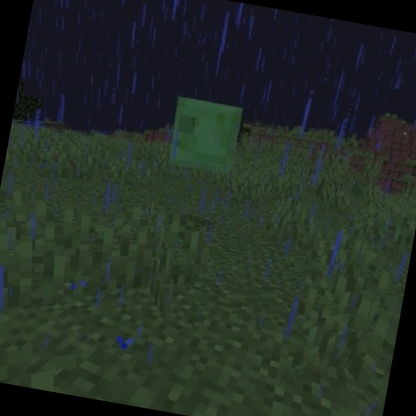slime: (162, 93, 248, 183)
